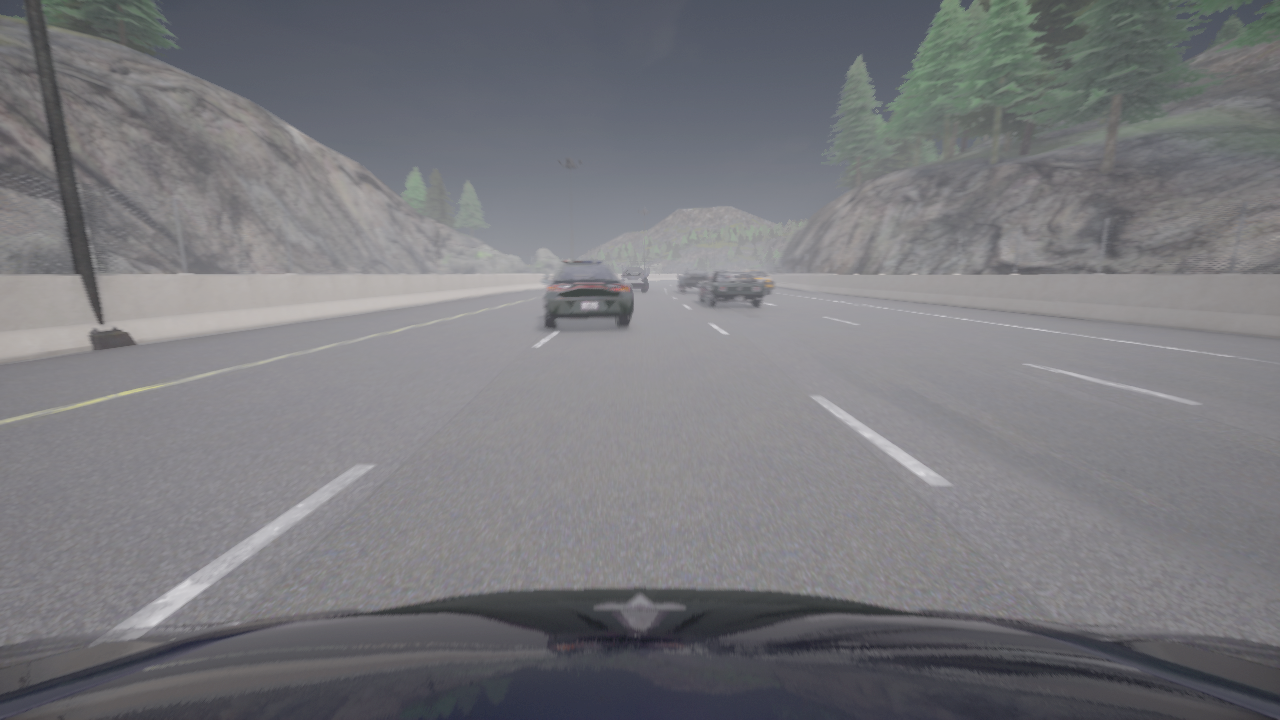cyclist: (0, 588, 1279, 719), (541, 260, 633, 327), (700, 271, 765, 306), (743, 268, 773, 293), (677, 269, 708, 292), (621, 268, 647, 291), (712, 269, 727, 272)
